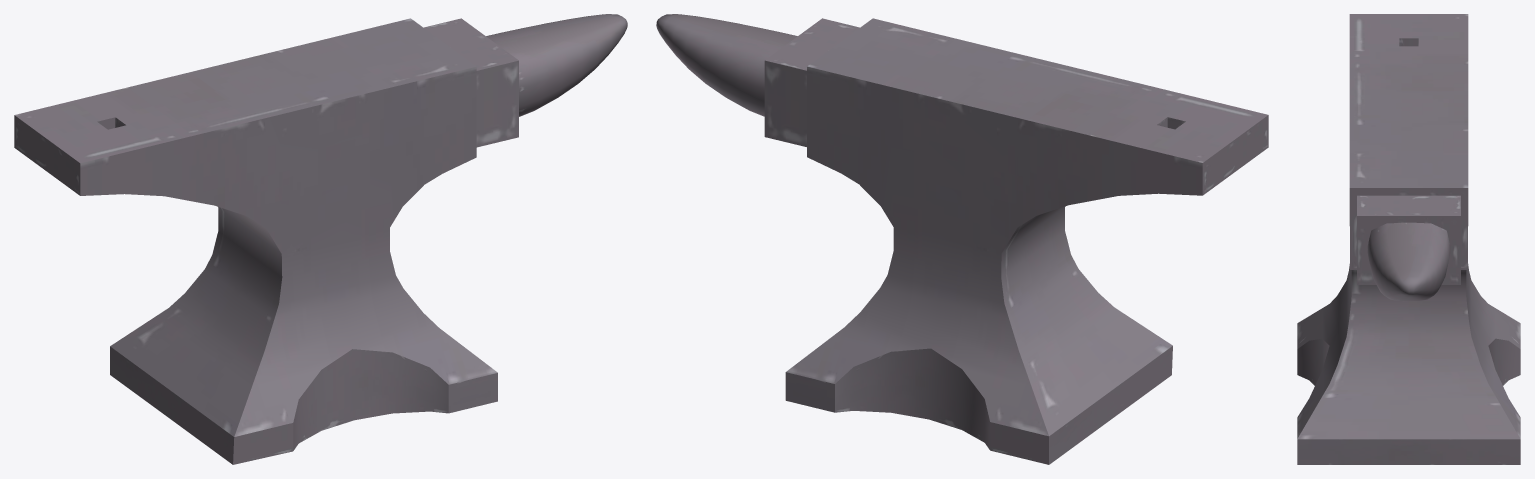
The model's file is Anvil.gltf.
3 renders of one model, left to right at view 1: azimuth 30°, elevation 25°; view 2: azimuth 150°, elevation 25°; view 3: azimuth 270°, elevation 25°, orthographic. The views are drawn at different scales.
Parts seen in each view (by area): view 1: Anvil; view 2: Anvil; view 3: Anvil.
Part boxes in pixels (x1,y1,x2,y2): Anvil: (14, 14, 627, 464); Anvil: (656, 14, 1268, 464); Anvil: (1297, 14, 1520, 464).
Bounding box in the file's own units: 1.08 × 0.556 × 0.4016.
Materials: 1 (1 with a texture image).
